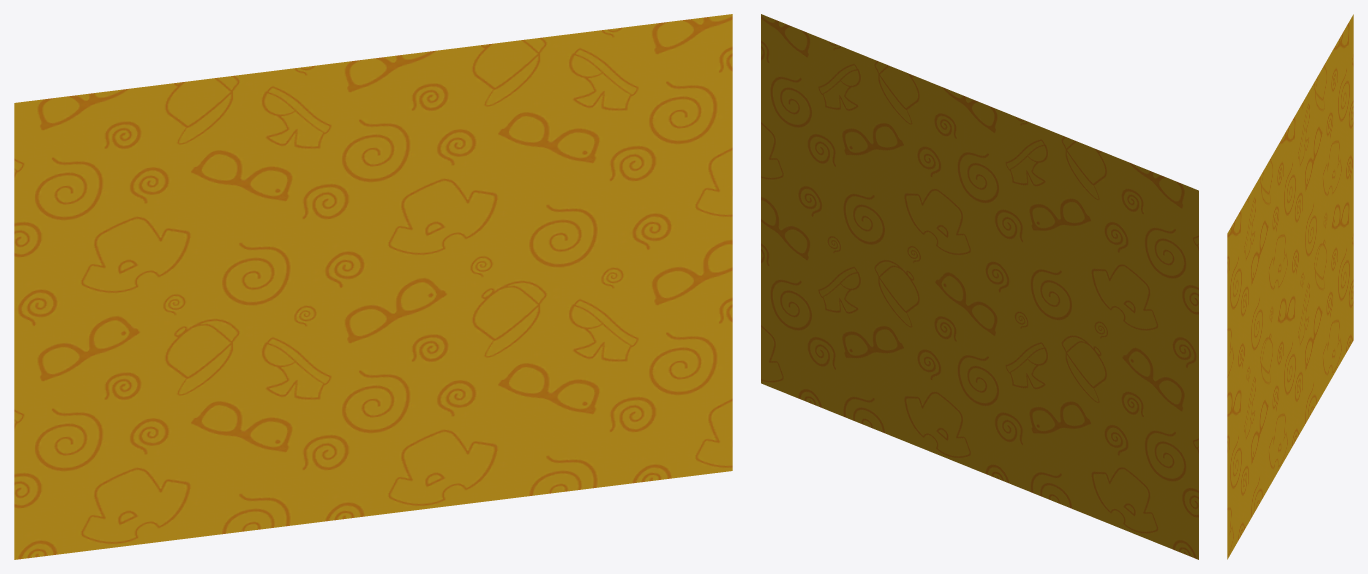
File: DisneyStorePatternWall.fbx
3 views of the same model, side by side, from view 1: azimuth 30°, elevation 25°; view 2: azimuth 150°, elevation 25°; view 3: azimuth 270°, elevation 25° (orthographic). The views are drawn at different scales.
Parts seen in each view (by area): view 1: DisneyStorePatternWall; view 2: DisneyStorePatternWall; view 3: DisneyStorePatternWall.
Part boxes in pixels (<box>): DisneyStorePatternWall: <box>14,14,732,559</box>; DisneyStorePatternWall: <box>761,14,1198,559</box>; DisneyStorePatternWall: <box>1227,14,1353,559</box>.
Bounding box in the file's own units: 298 × 206 × 72.37.
